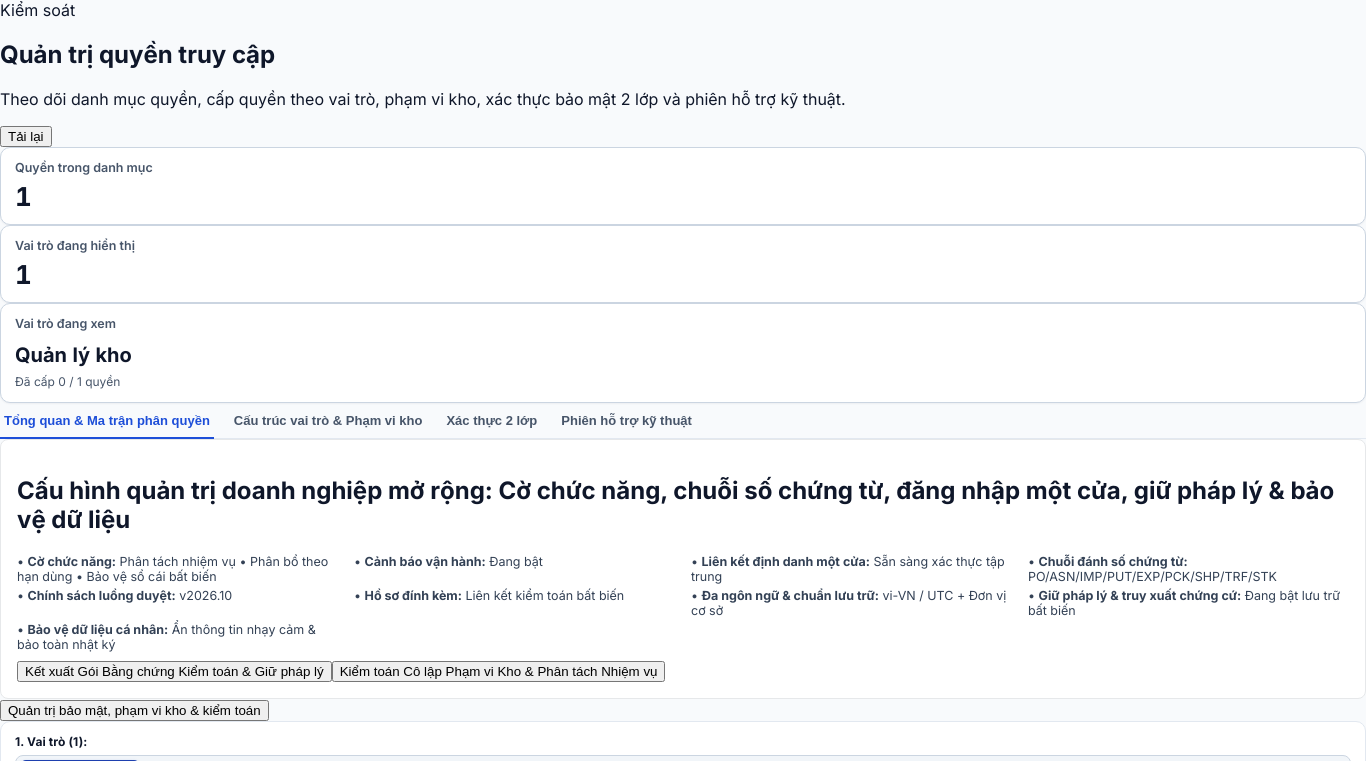
quản trị quyền truy cập › quản lý phiên hỗ trợ kỹ thuật tạm thời có kiểm soát (30 phút) trên tab Phiên hỗ trợ kỹ thuật
This screenshot has width=1366, height=761.
Click the tab "Phiên hỗ trợ kỹ thuật": point(627, 421) 557,403 -> 696,439
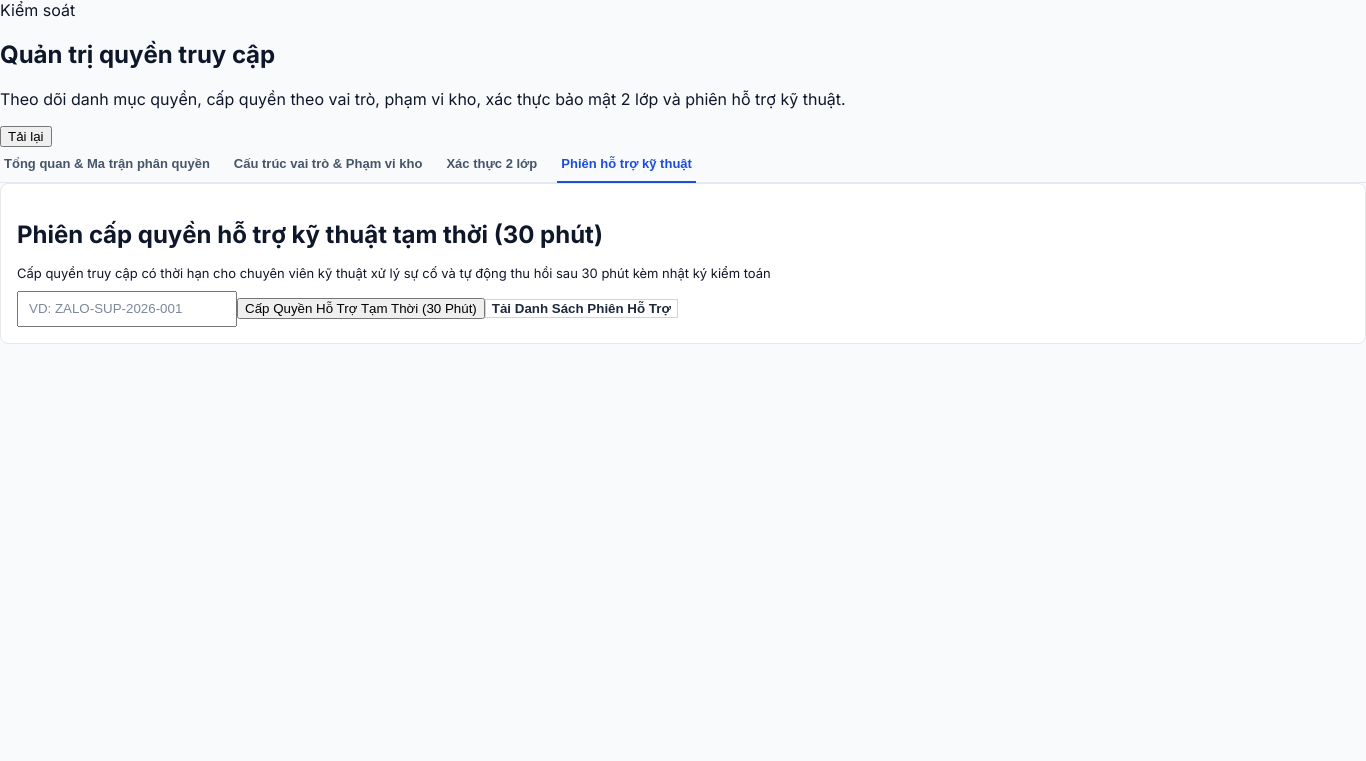
Result: the text "Quyền trong danh mục" is gone
Click the button with test id "btn-grant-support-impersonation": point(361, 309) 237,298 -> 485,319
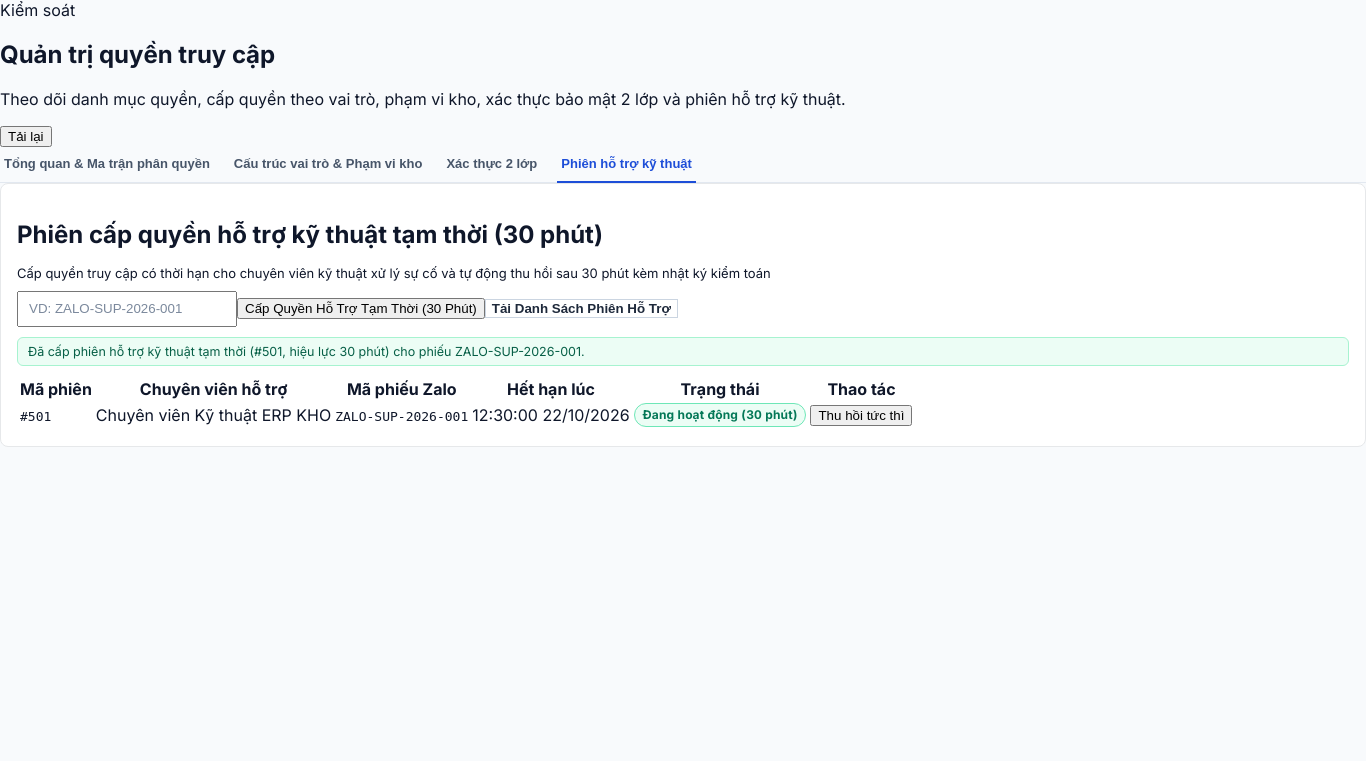
Result: the text "Đã cấp phiên hỗ trợ kỹ thuật tạm thời (#501, hiệu lực 30 phút)" is shown at 28,344 -> 585,359
Click the button with test id "btn-load-support-impersonation": point(581, 309) 485,299 -> 678,318
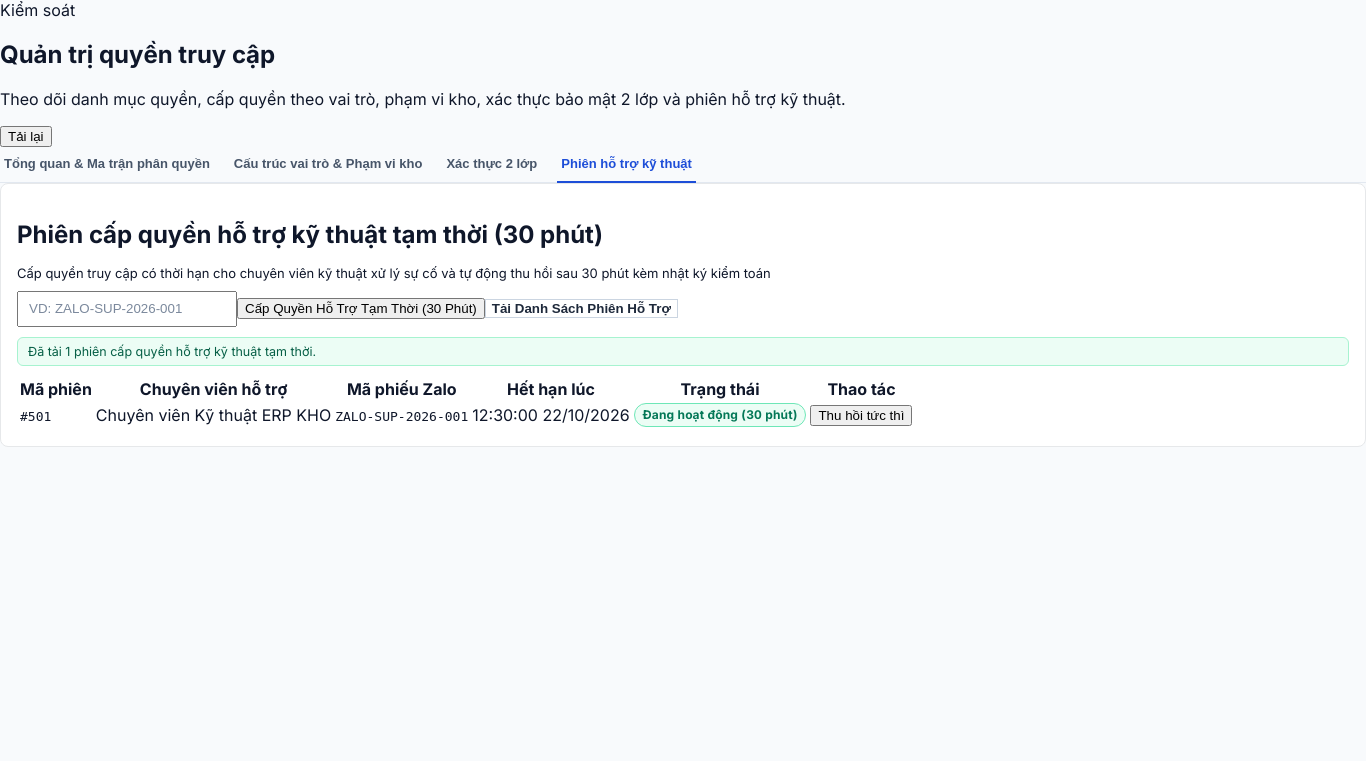
Click the button with test id "btn-revoke-support-501": point(862, 415) 810,405 -> 912,426
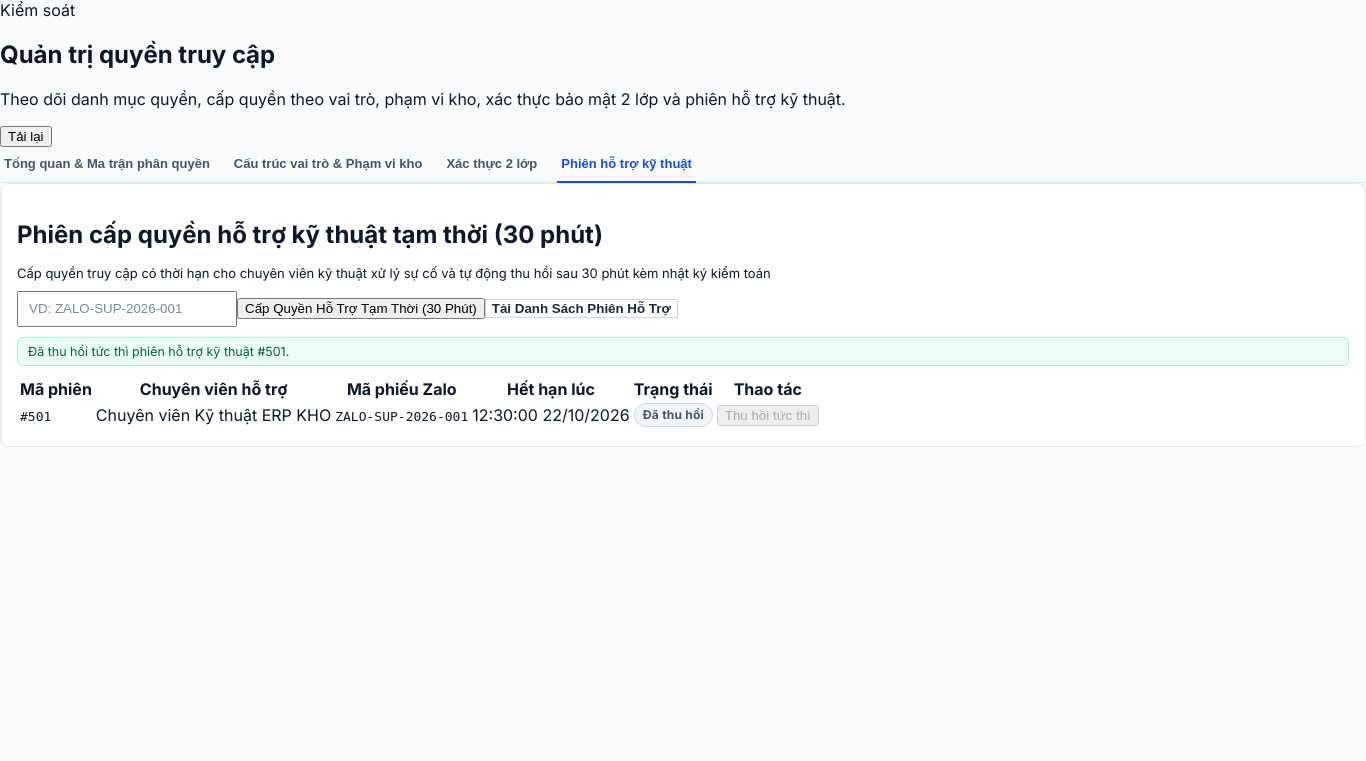
Result: the text "Đã thu hồi tức thì phiên hỗ trợ kỹ thuật #501." is shown at 17,337 -> 1349,366
